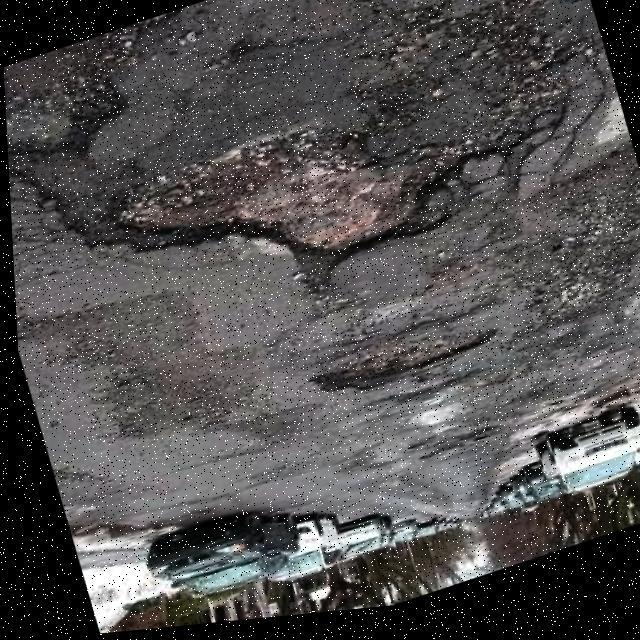pothole: (92, 72, 500, 358), (1, 3, 229, 190), (294, 322, 504, 421)
